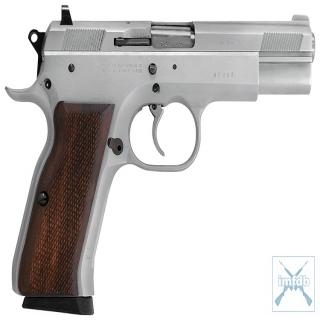gun: (2, 4, 312, 311)
